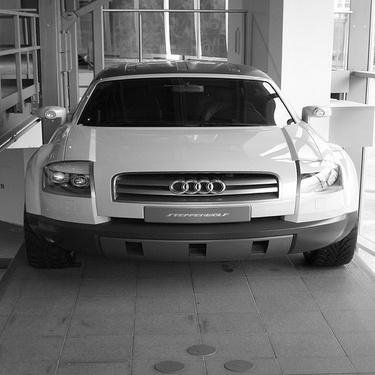car: (14, 56, 365, 273)
